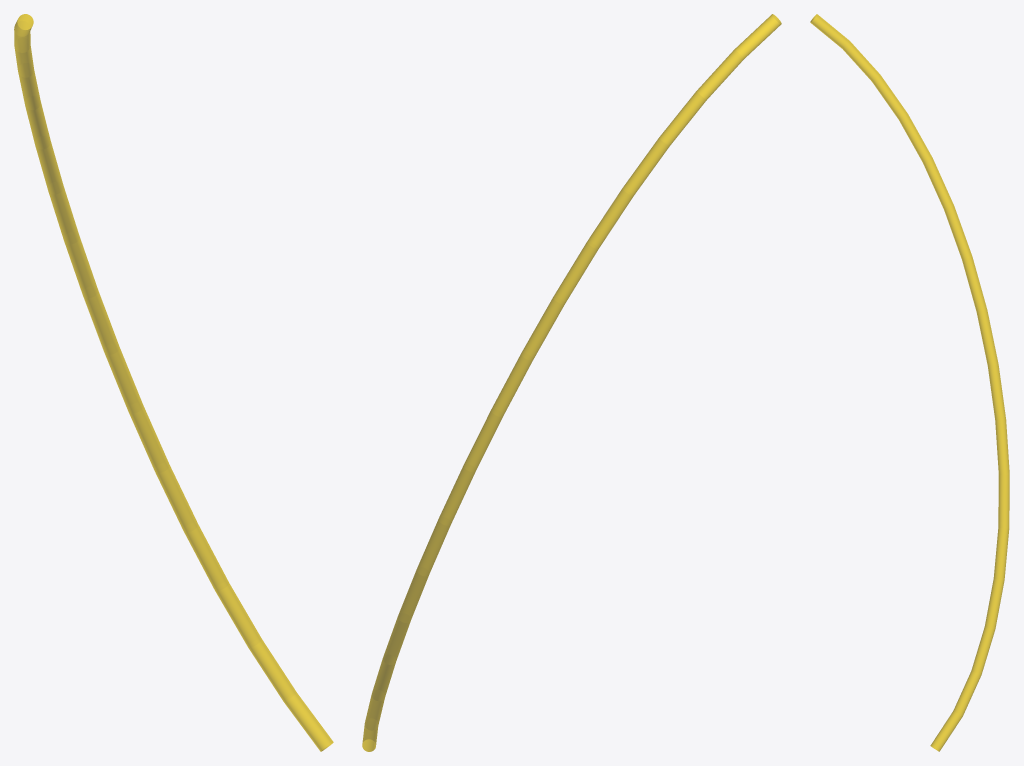
Rendered from Event_17758602_track_26.fbx.
3 renders of one model, left to right at view 1: azimuth 30°, elevation 25°; view 2: azimuth 150°, elevation 25°; view 3: azimuth 270°, elevation 25°, orthographic. The views are drawn at different scales.
Parts seen in each view (by area): view 1: Model; view 2: Model; view 3: Model.
Part boxes in pixels (<box>): Model: <box>14,14,333,751</box>; Model: <box>362,14,781,751</box>; Model: <box>810,14,1009,751</box>.
Size of the model in its own units: 1.14 by 2.43 by 0.7217.
